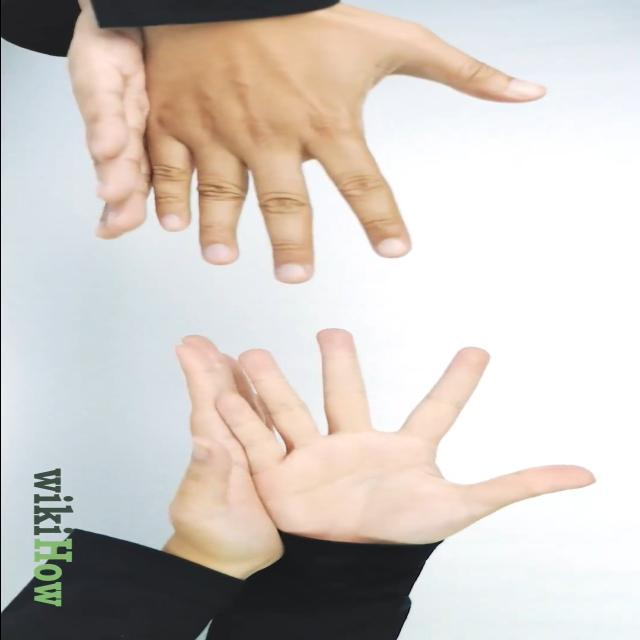Paper: (141, 4, 548, 284), (217, 326, 596, 544)
